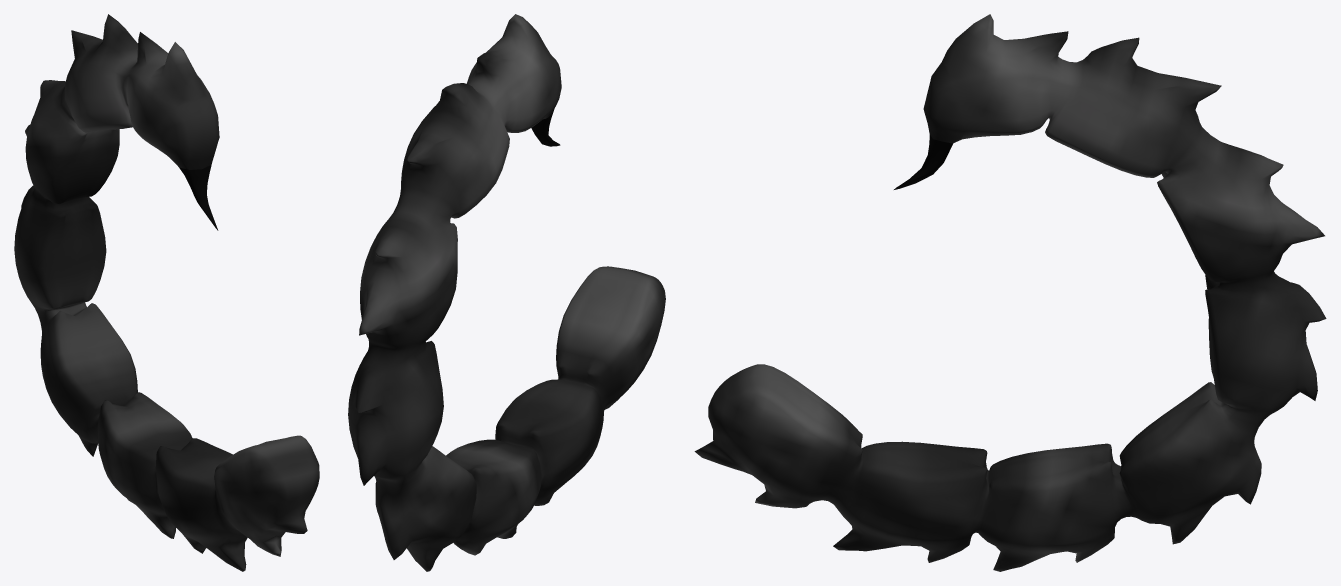
File: scorpiontail.glb
3 views of the same model, side by side, from view 1: azimuth 30°, elevation 25°; view 2: azimuth 150°, elevation 25°; view 3: azimuth 270°, elevation 25° (orthographic). The views are drawn at different scales.
Parts seen in each view (by area): view 1: scorpiontail_0; view 2: scorpiontail_0; view 3: scorpiontail_0.
Part boxes in pixels (<box>): scorpiontail_0: <box>14,14,319,571</box>; scorpiontail_0: <box>348,14,665,571</box>; scorpiontail_0: <box>694,14,1326,571</box>.
Size of the model in its own units: 0.1342 by 0.8668 by 0.89.
1 material, 1 textured.
